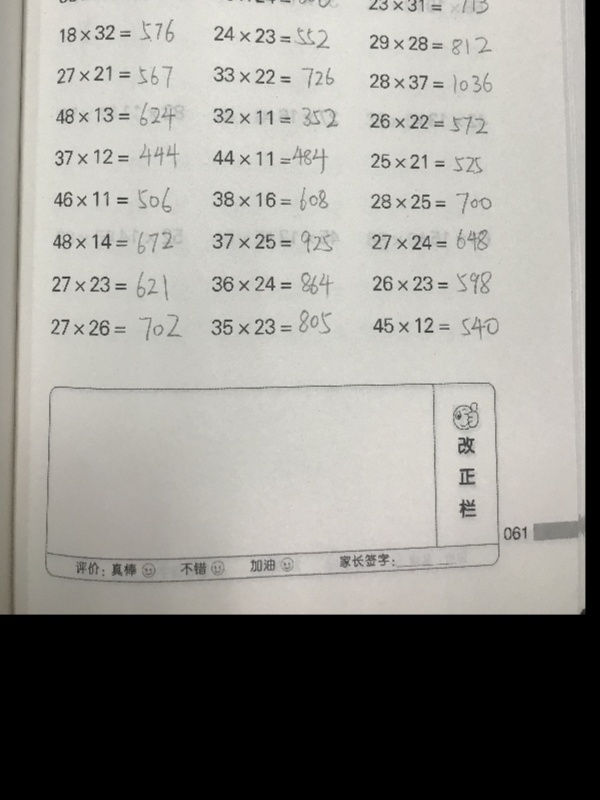equation: (48, 309, 182, 344), (207, 306, 334, 339), (209, 139, 331, 173), (53, 138, 180, 170), (211, 98, 338, 130), (210, 59, 337, 91), (209, 227, 340, 258), (50, 185, 176, 217), (50, 224, 176, 256), (48, 269, 174, 301), (369, 311, 502, 341), (207, 267, 336, 297), (368, 270, 496, 300), (209, 184, 332, 215), (56, 16, 178, 47), (369, 226, 494, 256), (53, 63, 176, 92), (54, 101, 177, 130), (366, 70, 496, 97), (365, 32, 494, 59), (210, 21, 333, 49), (366, 110, 491, 137), (369, 189, 494, 215), (367, 151, 485, 176), (367, 0, 497, 21), (212, 0, 338, 9), (55, 0, 183, 5)
